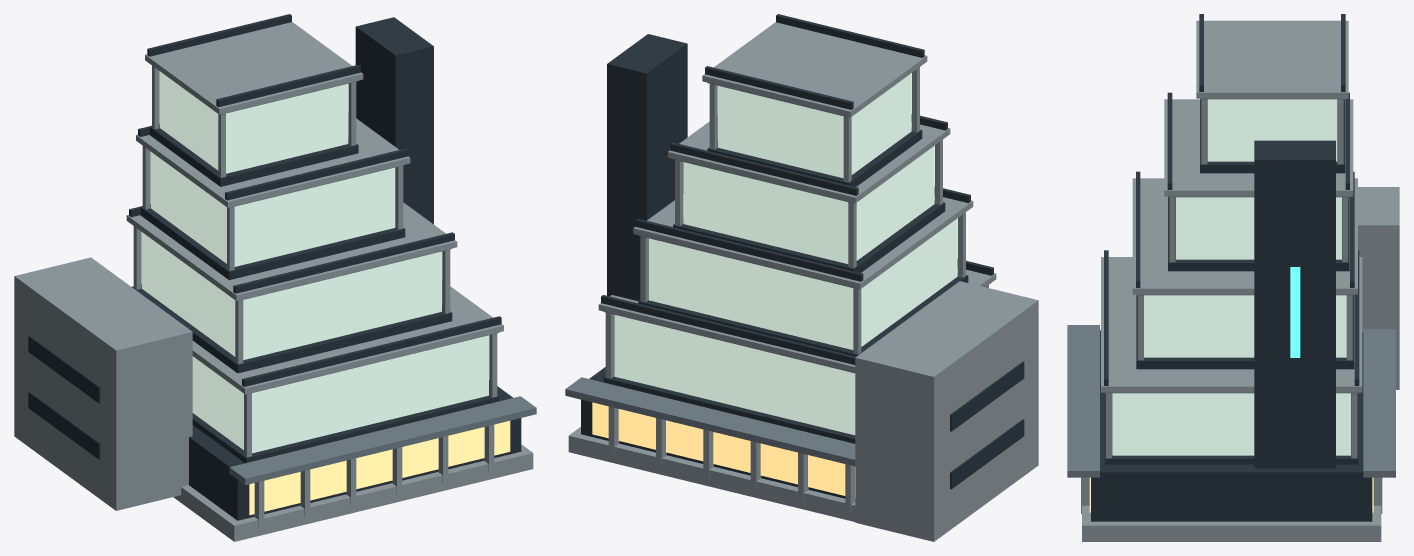
File: vrx_city_services_b_LOD1.fbx
3 renders of one model, left to right at view 1: azimuth 30°, elevation 25°; view 2: azimuth 150°, elevation 25°; view 3: azimuth 270°, elevation 25°, orthographic. The views are drawn at different scales.
Visible parts, largest first — view 1: vrx_city_services_b_LOD1; view 2: vrx_city_services_b_LOD1; view 3: vrx_city_services_b_LOD1.
Part boxes in pixels (bbox=[...]): vrx_city_services_b_LOD1: bbox=[14, 14, 536, 541]; vrx_city_services_b_LOD1: bbox=[565, 14, 1038, 541]; vrx_city_services_b_LOD1: bbox=[1067, 14, 1399, 541].
Size of the model in its own units: 47.7 by 48.5 by 36.6.
